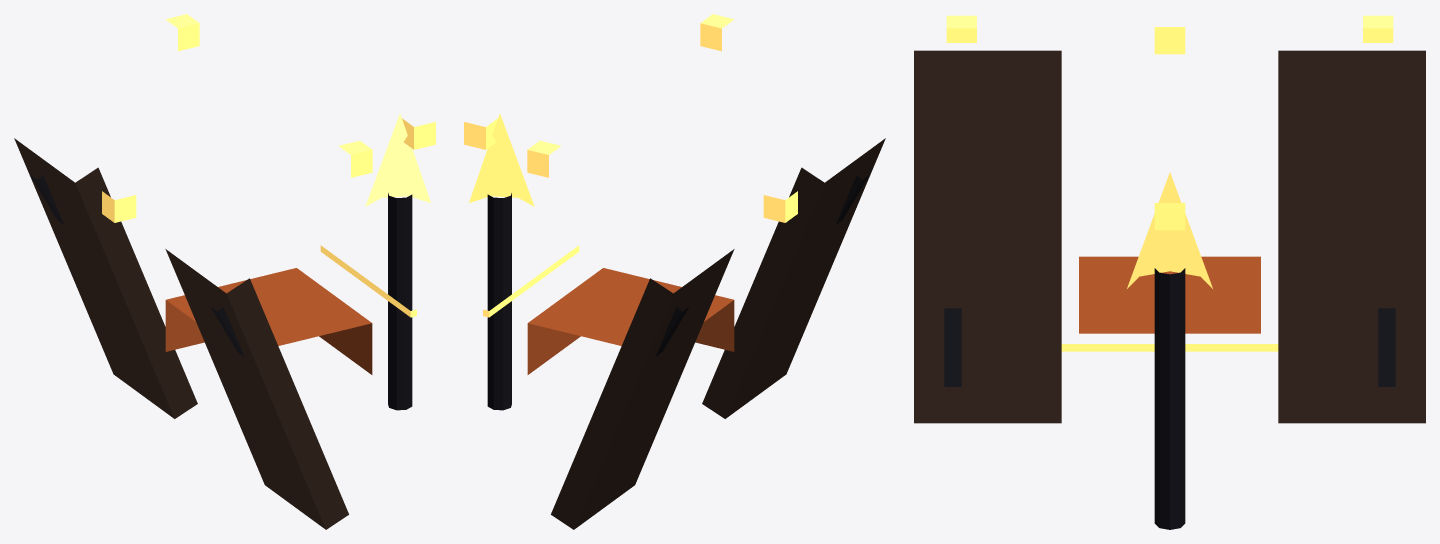
Rendered from batrider.glb.
The picture shows the model from 3 angles, left to right: view 1: azimuth 30°, elevation 25°; view 2: azimuth 150°, elevation 25°; view 3: azimuth 270°, elevation 25°; orthographic projection. The views are drawn at different scales.
Parts seen in each view (by area): view 1: batrider-wing-l, batrider-wing-r, batrider-saddle, batrider-torch, batrider-torch-flame, batrider-flair-mote-2, batrider-flair-mote-1, batrider-flair-mote-3, batrider-flair-mote-0, batrider-reins; view 2: batrider-wing-r, batrider-wing-l, batrider-saddle, batrider-torch, batrider-torch-flame, batrider-flair-mote-2, batrider-flair-mote-3, batrider-flair-mote-1, batrider-flair-mote-0, batrider-reins; view 3: batrider-wing-l, batrider-wing-r, batrider-saddle, batrider-torch, batrider-torch-flame, batrider-reins, batrider-wing-strut-l, batrider-wing-strut-r, batrider-flair-mote-0, batrider-flair-mote-2, batrider-flair-mote-1, batrider-flair-mote-3.
Boxes of the visible parts, x1,y1,x2,y2 form: batrider-wing-l: (165, 249, 348, 529); batrider-wing-r: (14, 138, 197, 418); batrider-saddle: (165, 268, 372, 374); batrider-torch: (388, 193, 412, 410); batrider-torch-flame: (365, 113, 430, 206); batrider-flair-mote-2: (102, 191, 136, 222); batrider-flair-mote-1: (339, 140, 372, 177); batrider-flair-mote-3: (166, 14, 199, 51); batrider-flair-mote-0: (402, 118, 435, 149); batrider-reins: (320, 245, 416, 317); batrider-wing-r: (551, 249, 734, 529); batrider-wing-l: (702, 138, 885, 418); batrider-saddle: (527, 268, 734, 374); batrider-torch: (487, 193, 511, 410); batrider-torch-flame: (469, 113, 534, 206); batrider-flair-mote-2: (763, 191, 797, 222); batrider-flair-mote-3: (527, 140, 560, 177); batrider-flair-mote-1: (700, 14, 733, 51); batrider-flair-mote-0: (464, 118, 497, 149); batrider-reins: (483, 245, 579, 317); batrider-wing-l: (914, 50, 1061, 423); batrider-wing-r: (1278, 50, 1425, 423); batrider-saddle: (1079, 256, 1260, 333); batrider-torch: (1154, 268, 1185, 529); batrider-torch-flame: (1127, 172, 1212, 288); batrider-reins: (1061, 344, 1278, 351); batrider-wing-strut-l: (944, 308, 961, 386); batrider-wing-strut-r: (1378, 308, 1395, 386); batrider-flair-mote-0: (1154, 203, 1185, 230); batrider-flair-mote-2: (1154, 27, 1185, 54); batrider-flair-mote-1: (946, 15, 976, 42); batrider-flair-mote-3: (1363, 15, 1393, 42).
Size of the model in its own units: 1.03 by 1.09 by 1.18.
